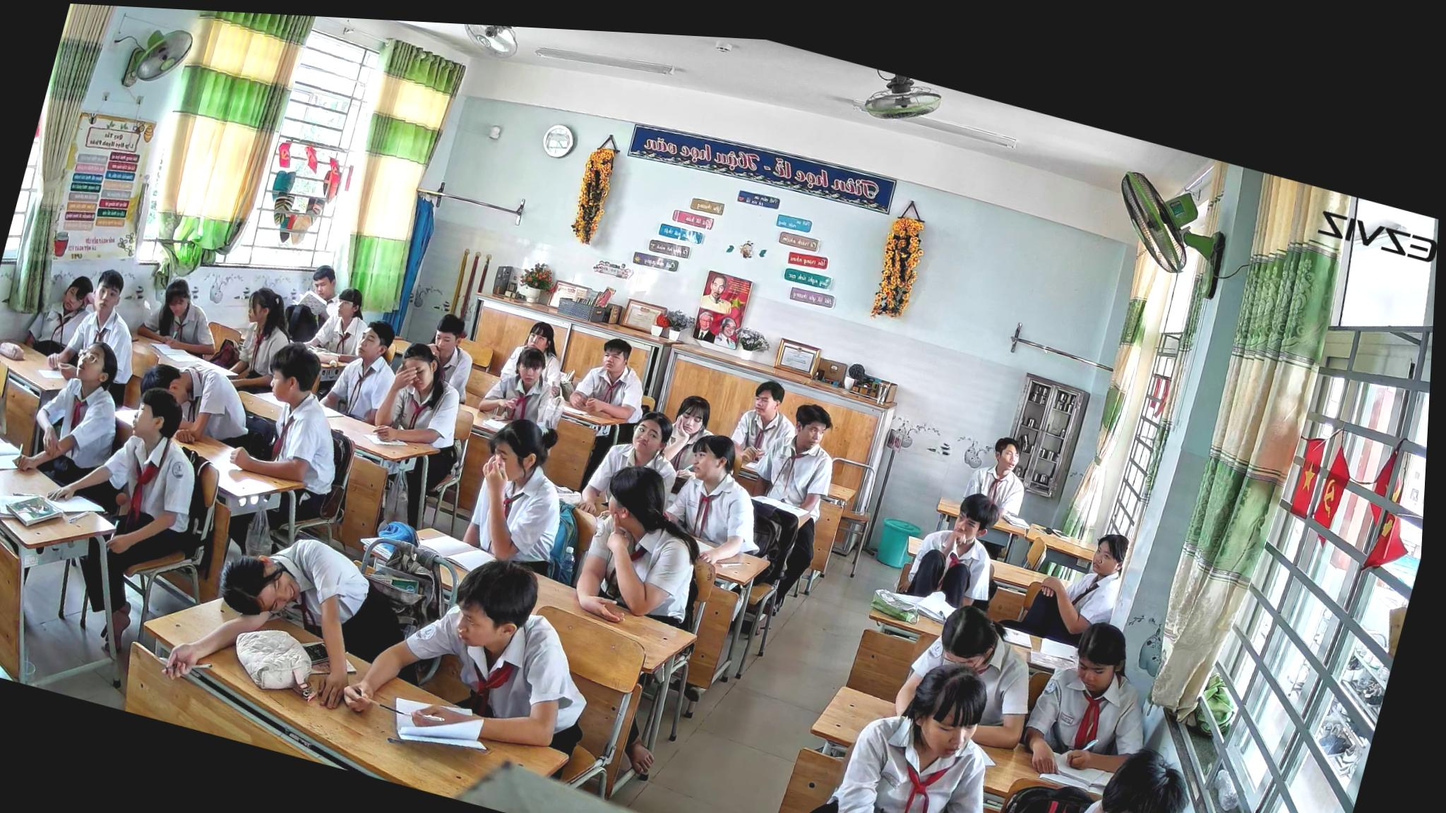person: (336, 526, 624, 773), (5, 362, 225, 670), (158, 508, 426, 738), (766, 626, 1029, 813), (1013, 609, 1174, 800), (566, 455, 726, 642), (219, 330, 368, 519), (887, 590, 1054, 756), (963, 711, 1221, 813), (725, 390, 851, 590), (454, 407, 588, 576), (648, 422, 786, 581), (12, 328, 141, 498), (999, 509, 1140, 659), (36, 257, 158, 409), (895, 478, 1017, 618), (574, 397, 694, 537), (362, 333, 480, 464), (127, 350, 263, 460), (315, 310, 409, 428), (474, 337, 580, 438), (221, 283, 305, 403), (565, 328, 661, 430), (132, 270, 231, 361), (724, 374, 808, 478), (15, 262, 99, 364), (412, 308, 486, 414), (959, 429, 1039, 521), (499, 314, 579, 398), (302, 278, 378, 364), (656, 390, 722, 481), (300, 261, 348, 324)
